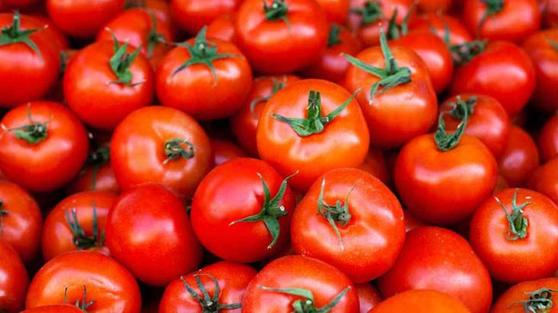tomato: (262, 78, 368, 179), (395, 123, 496, 221), (107, 186, 207, 284), (3, 101, 91, 190), (68, 41, 155, 128)
